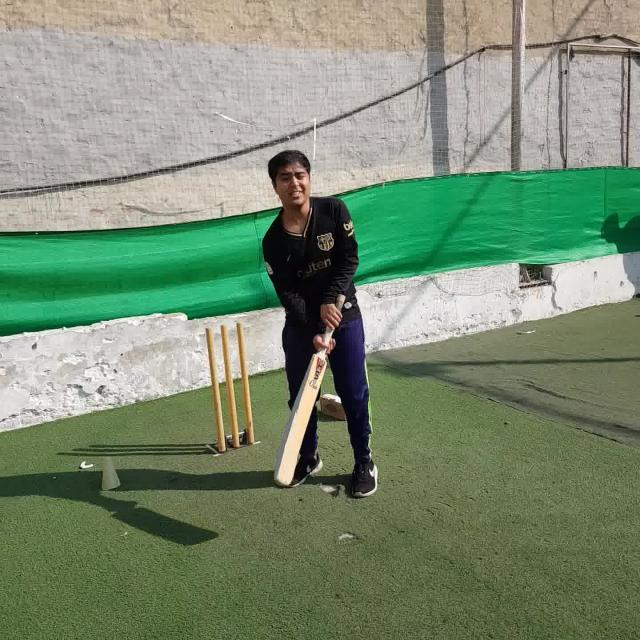bat: (274, 294, 346, 487)
